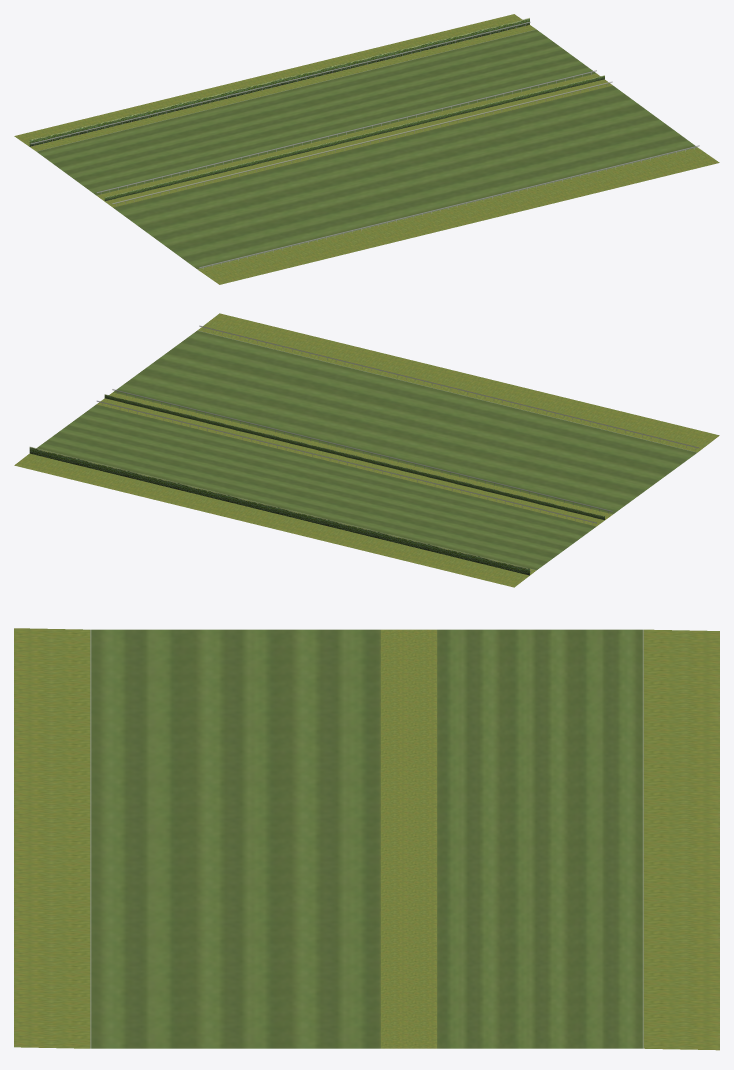
The model's file is road_nograss_02s.gltf.
3 renders of one model, top to bottom at view 1: azimuth 30°, elevation 25°; view 2: azimuth 150°, elevation 25°; view 3: azimuth 270°, elevation 25°, orthographic. The views are drawn at different scales.
Parts seen in each view (by area): view 1: outer_track.002, outer_track.001, outer_track.006, outer_track.007, outer_track.004, outer_track.005, outer_track.003; view 2: outer_track.002, outer_track.001, outer_track.006, outer_track.004, outer_track.005, outer_track.003; view 3: outer_track.002.
Boxes of the visible parts, x1,y1,x2,y2 form: outer_track.002: (14,14,719,284); outer_track.001: (29,18,529,146); outer_track.006: (104,75,604,200); outer_track.007: (31,21,530,146); outer_track.004: (112,81,612,205); outer_track.005: (96,70,596,194); outer_track.003: (199,145,699,269); outer_track.002: (14,313,719,587); outer_track.001: (29,447,529,575); outer_track.006: (104,394,604,519); outer_track.004: (112,389,612,513); outer_track.005: (96,400,596,524); outer_track.003: (199,325,699,449); outer_track.002: (14,628,719,1050).
Size of the model in its own units: 120 by 2.76 by 85.44.
Materials: 1 (1 with a texture image).
